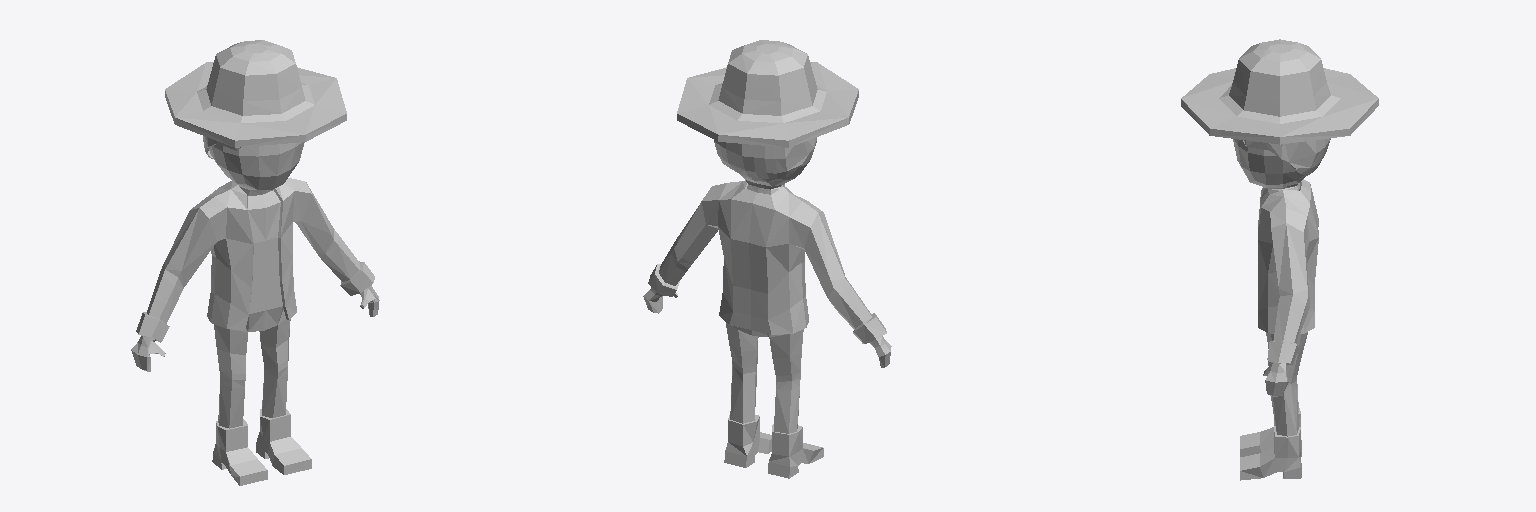
File: cowboy.obj
3 views of the same model, side by side, from view 1: azimuth 30°, elevation 25°; view 2: azimuth 150°, elevation 25°; view 3: azimuth 270°, elevation 25° (orthographic).
Parts seen in each view (by area): view 1: Cube.000_Cube.003; view 2: Cube.000_Cube.003; view 3: Cube.000_Cube.003.
Boxes of the visible parts, x1=… form: Cube.000_Cube.003: x1=131, y1=40, x2=379, y2=485; Cube.000_Cube.003: x1=643, y1=40, x2=891, y2=478; Cube.000_Cube.003: x1=1181, y1=39, x2=1378, y2=480.
Size of the model in its own units: 9.7 by 15.85 by 6.88.